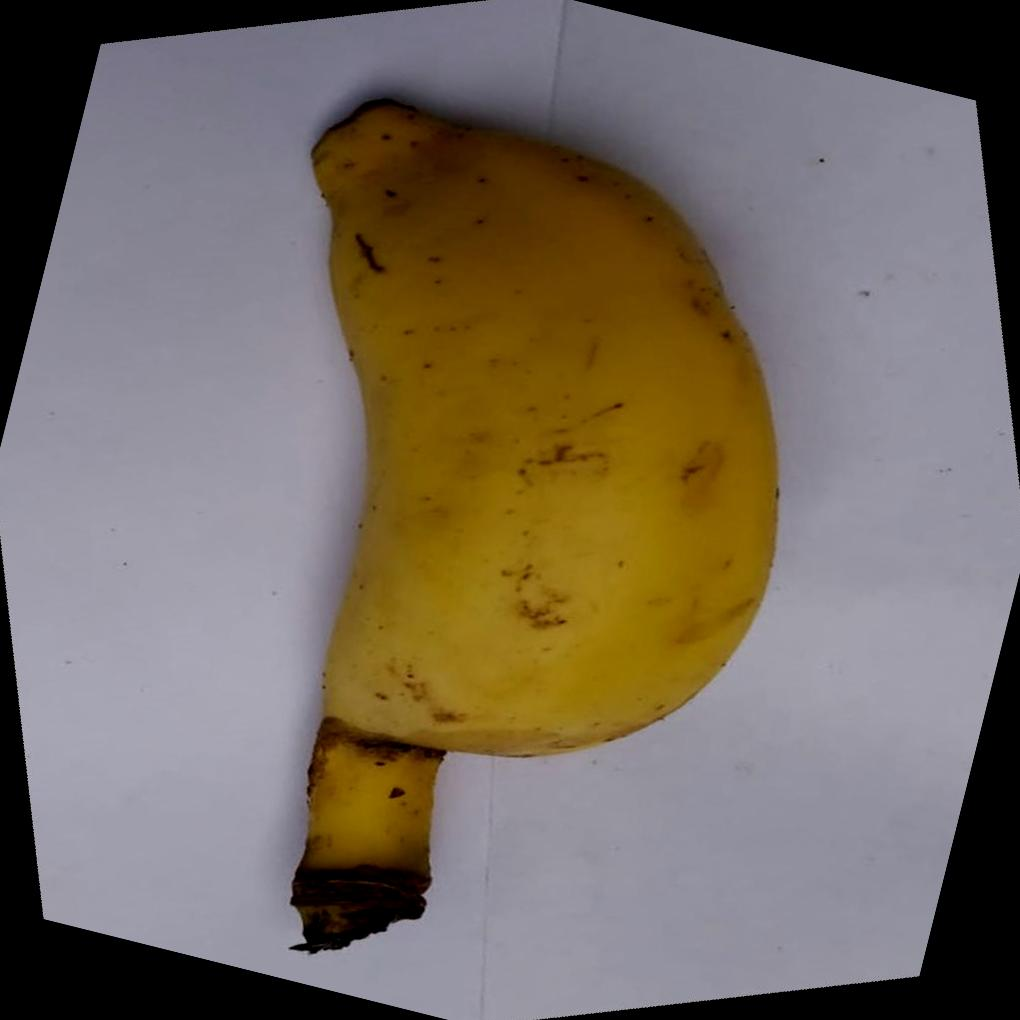Banana Ripe: (140, 79, 917, 1009)
